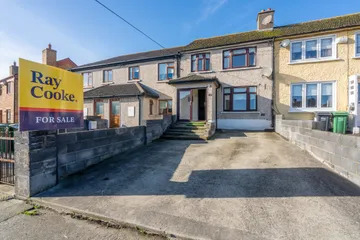property sign: (15, 51, 91, 140)
